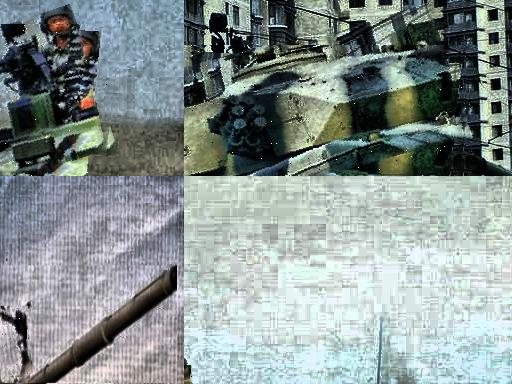tanks: (185, 47, 467, 177), (28, 267, 178, 384), (1, 25, 109, 177), (1, 313, 32, 379), (466, 156, 512, 177)
